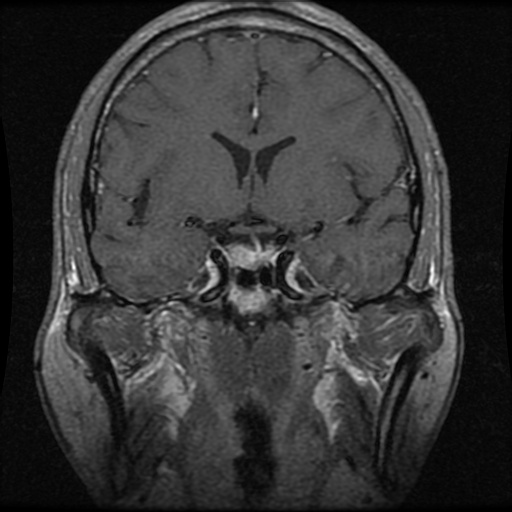pituitary: (227, 245, 277, 268)
